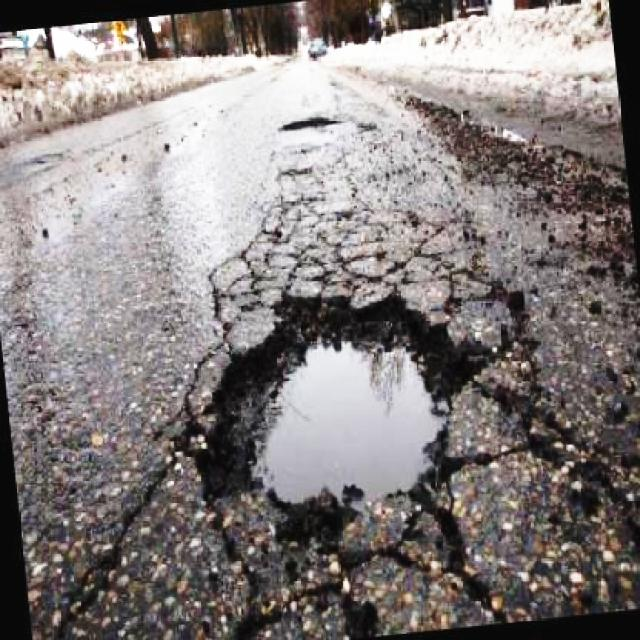pothole: (180, 254, 535, 558), (279, 112, 346, 137)
